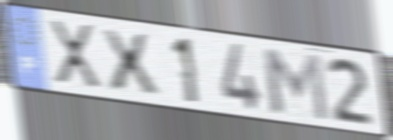1: (170, 35, 202, 105)
2: (324, 56, 376, 128)
4: (219, 41, 264, 113)
M: (258, 45, 332, 124)
X: (96, 25, 162, 97), (47, 17, 105, 94)
